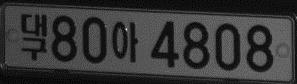0: (81, 16, 107, 64), (215, 22, 241, 70)
4: (150, 20, 179, 68)
8: (245, 23, 274, 72), (182, 20, 210, 69), (50, 14, 78, 62)
대구_V: (19, 13, 48, 61)
아: (111, 21, 139, 63)
